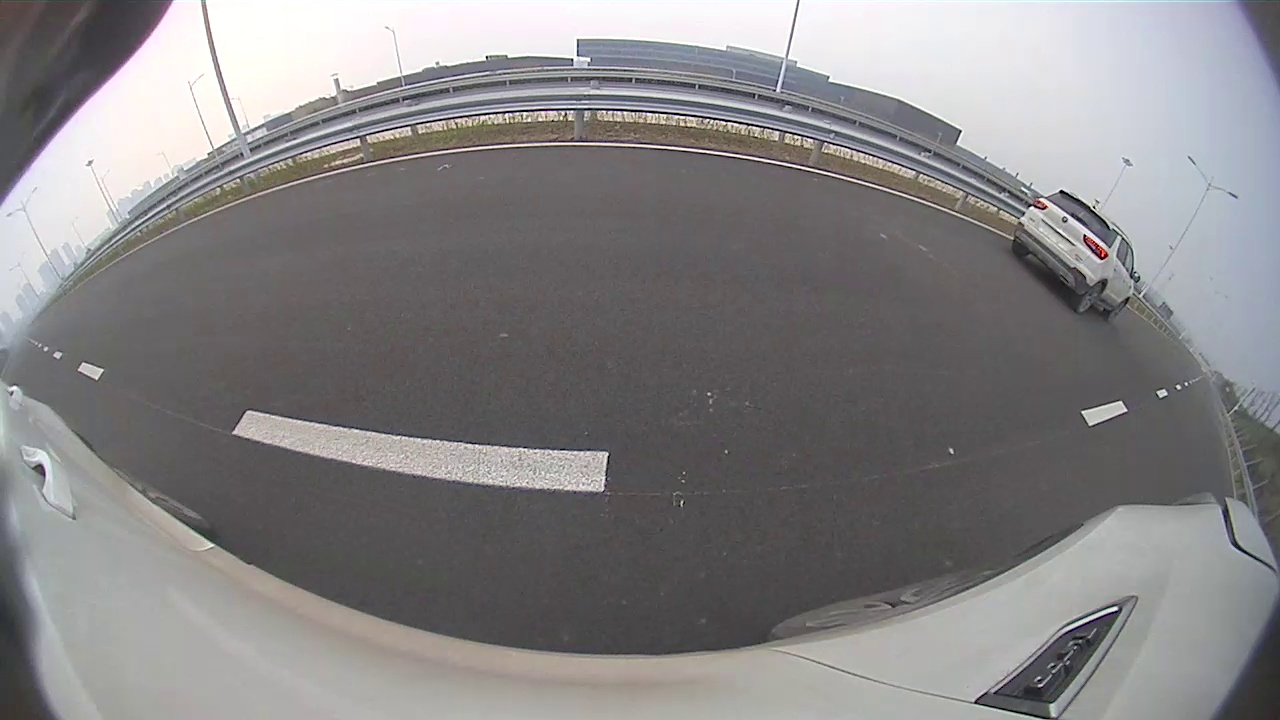car: (1013, 189, 1141, 322)
rear: (1076, 279, 1106, 318)
